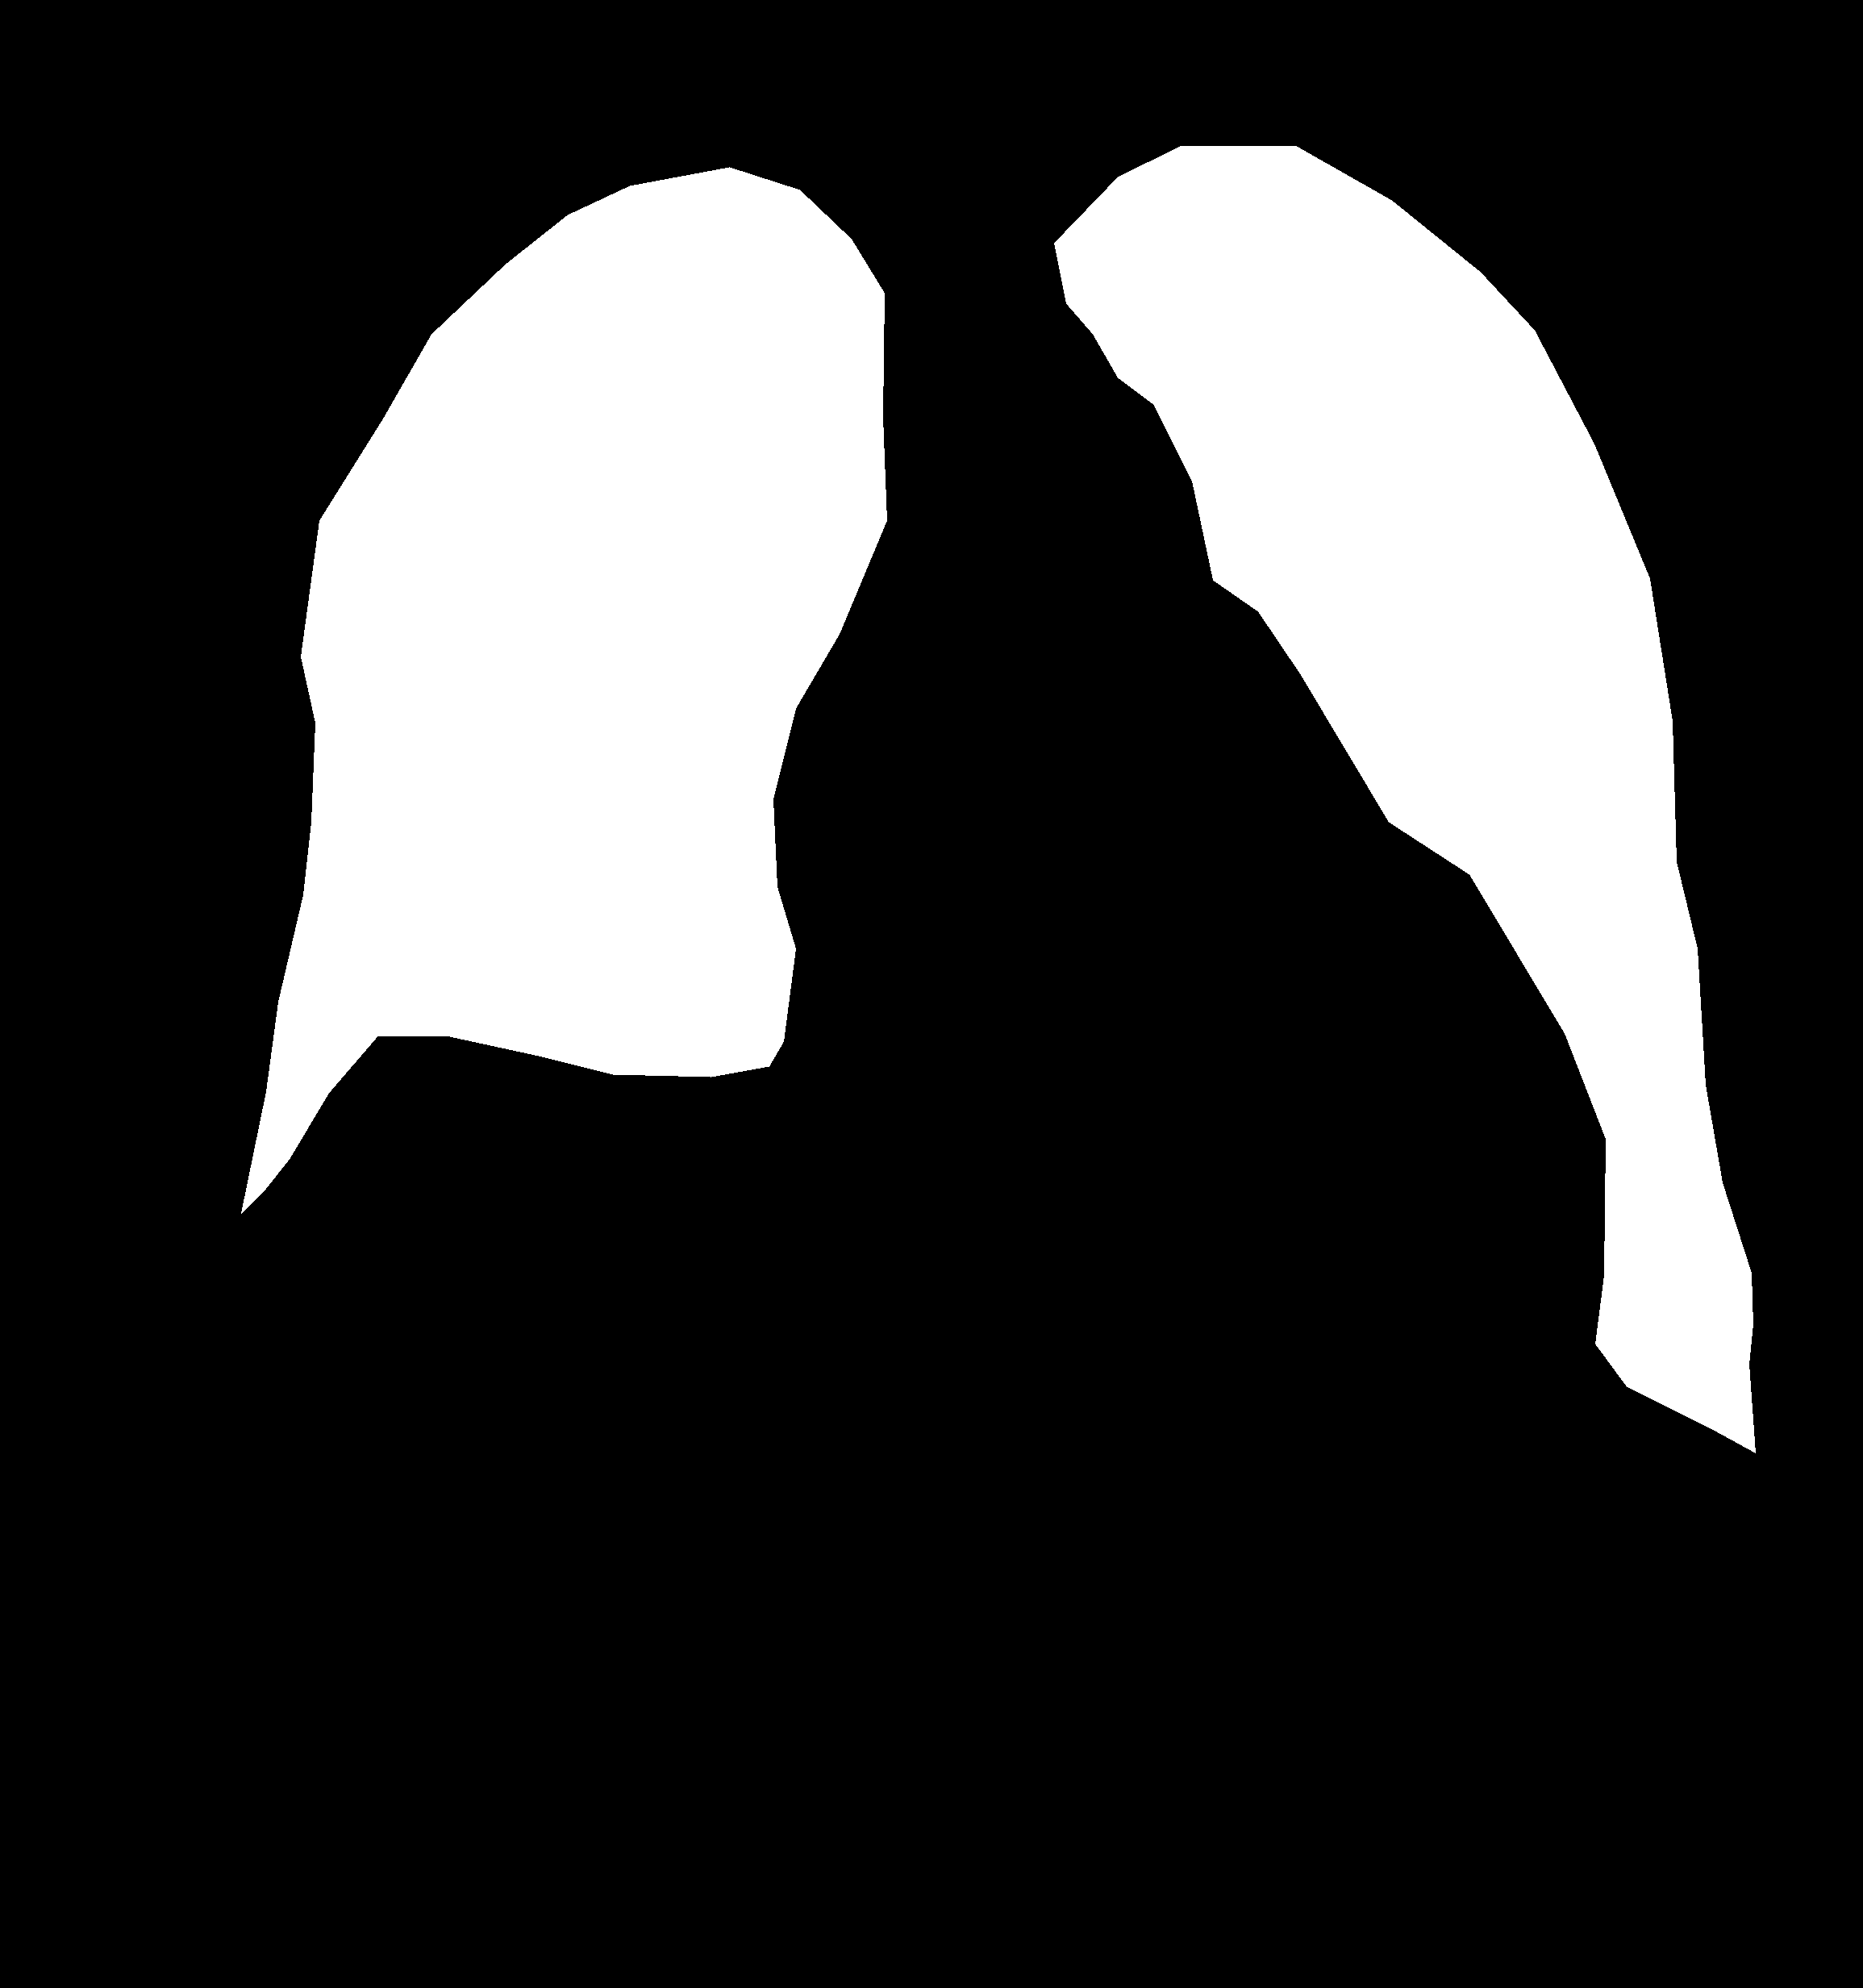heart: (774, 578, 1607, 1403)
left_lung: (242, 166, 886, 1214)
right_lung: (1054, 145, 1754, 1452)
